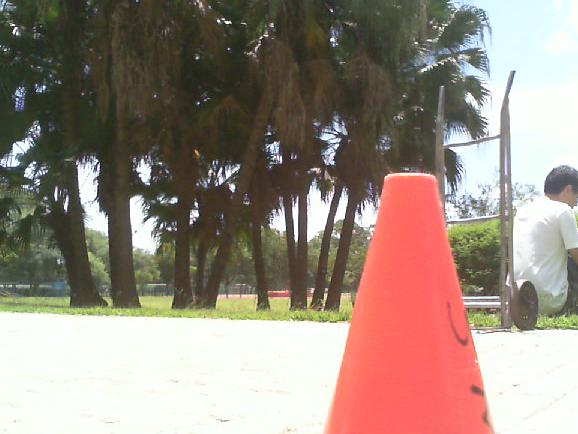0 cone: (314, 174, 502, 434)
